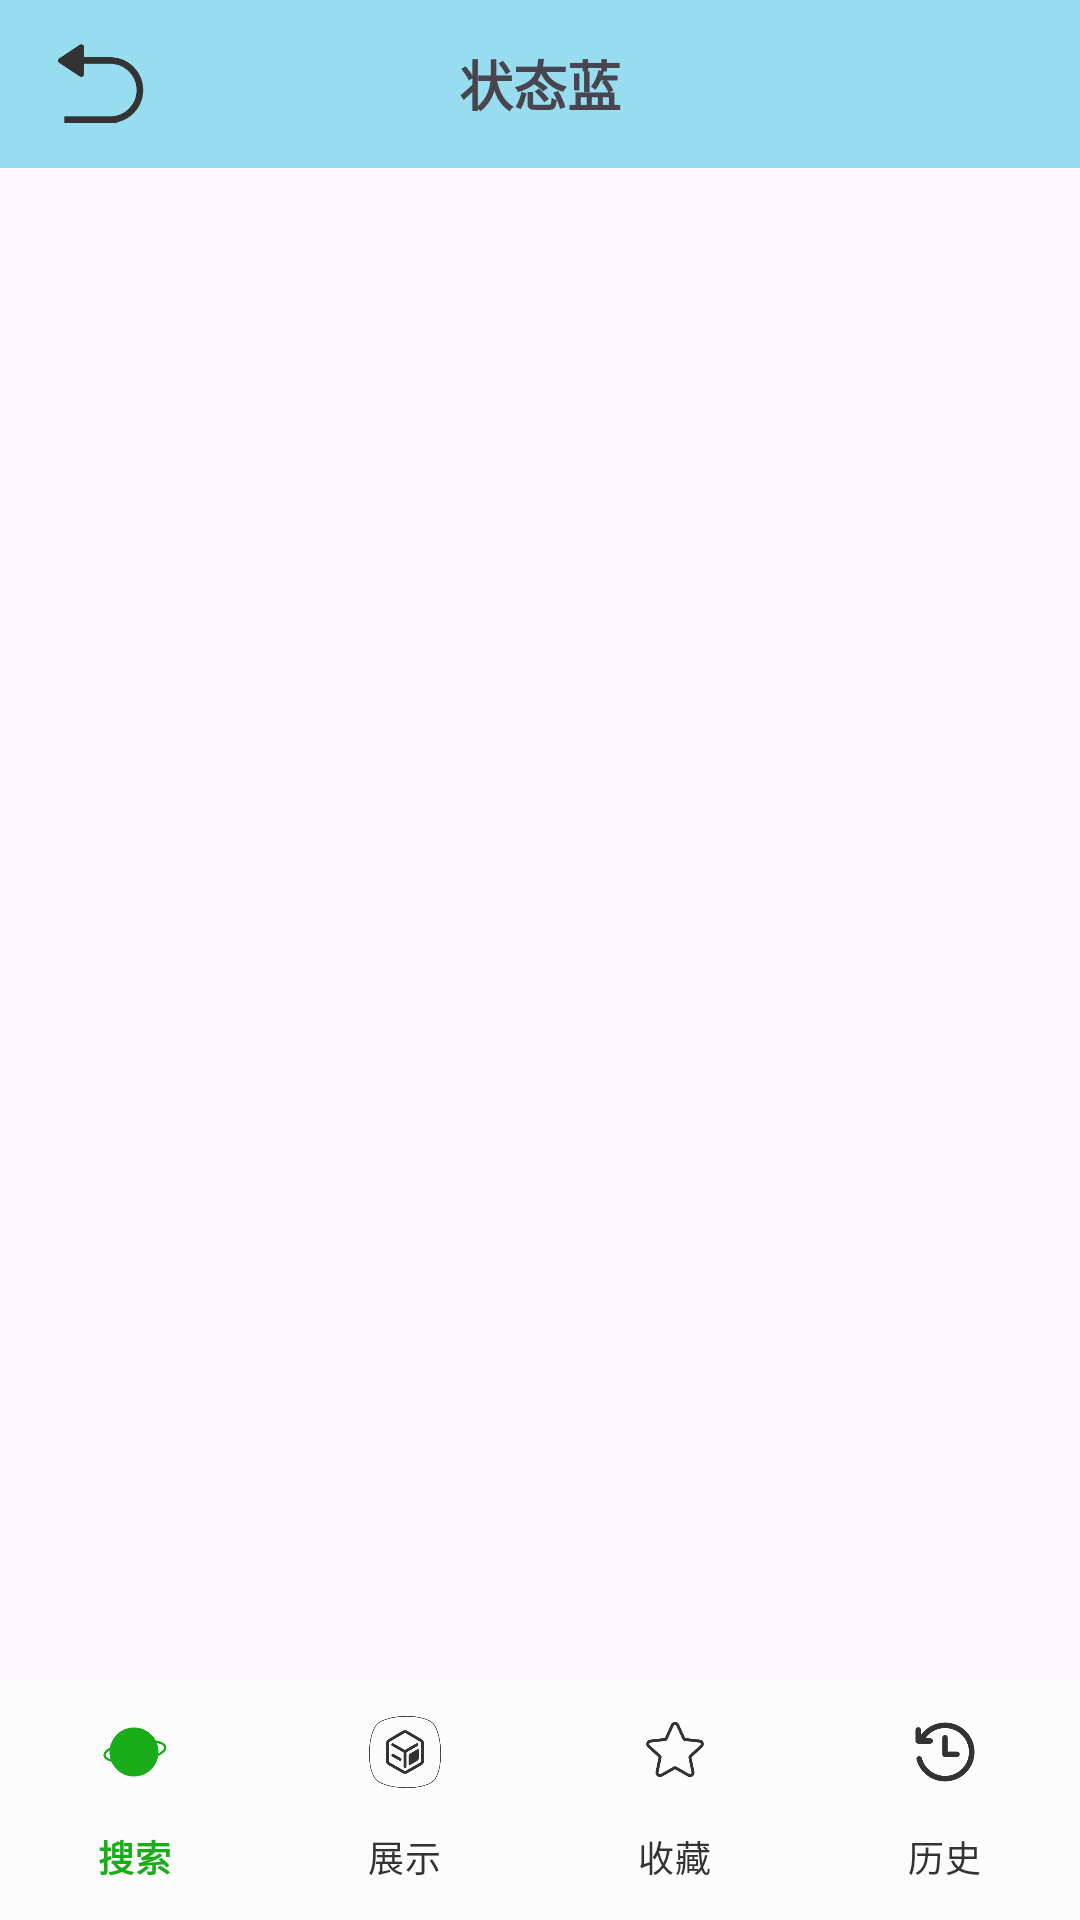

Point at icon controls on the screen. Image size 1080*1920, points as (x,y).
tool bar bak: (101,83)
